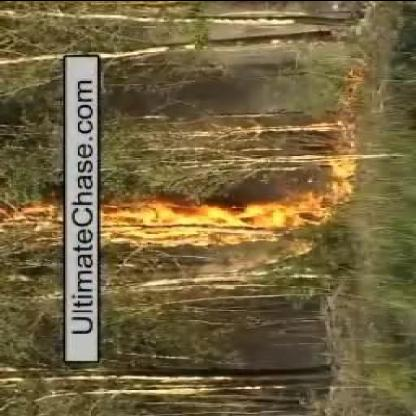foggia-v2-map80-epoch100 - v1 4323: (101, 204, 284, 242)
